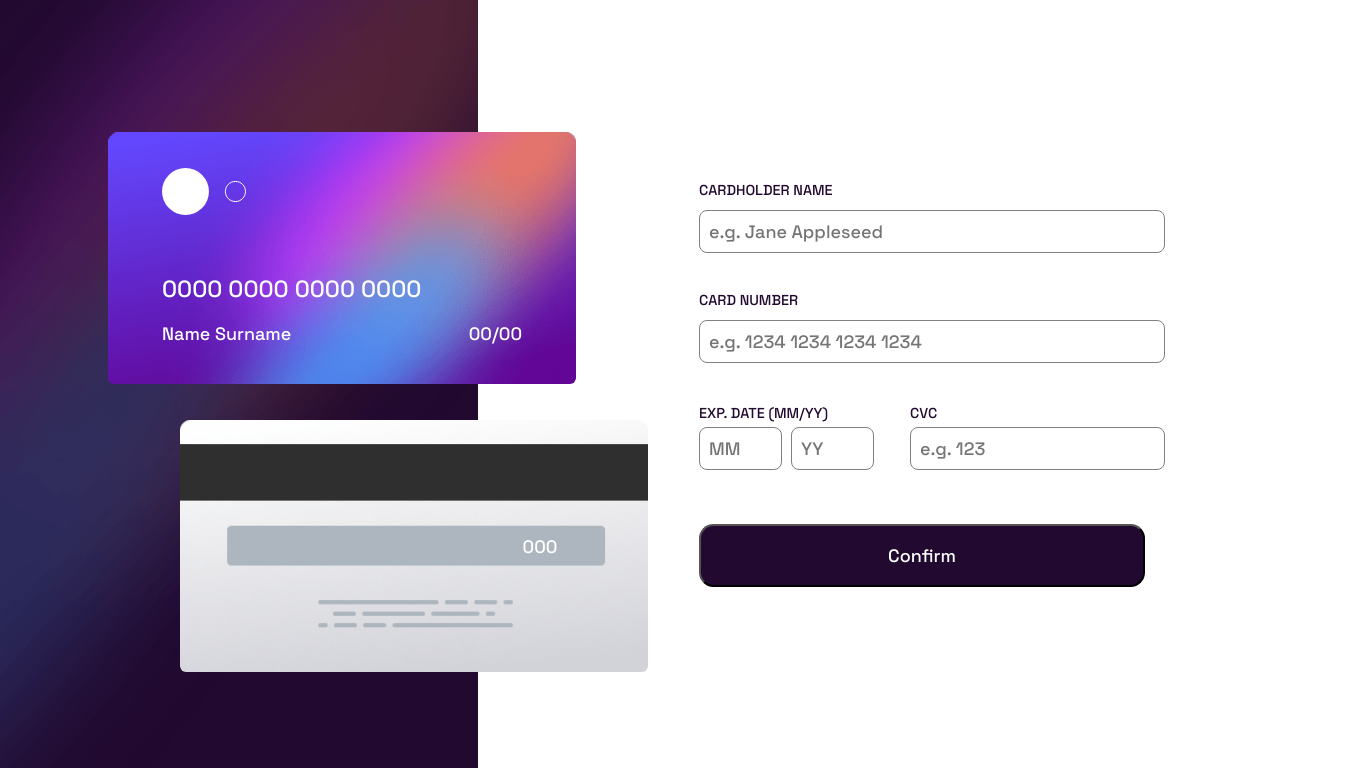
Test case: No Year Specified
The image size is (1366, 768).
Expected: the field with placeholder "YY" is shown, [791, 427, 874, 470]
Click the button at [922, 555], box [699, 524, 1145, 587]
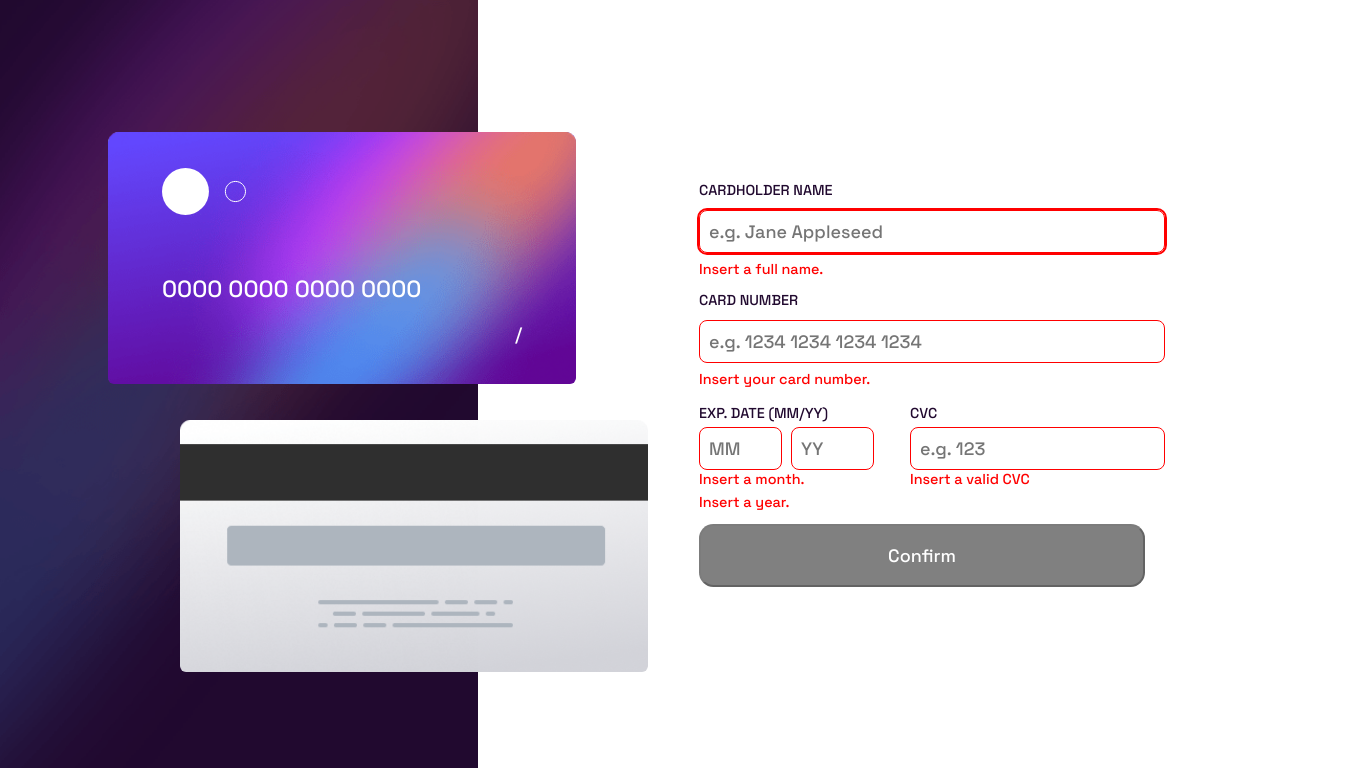
Expected: the text "Insert a year." is shown, [699, 493, 805, 517]
